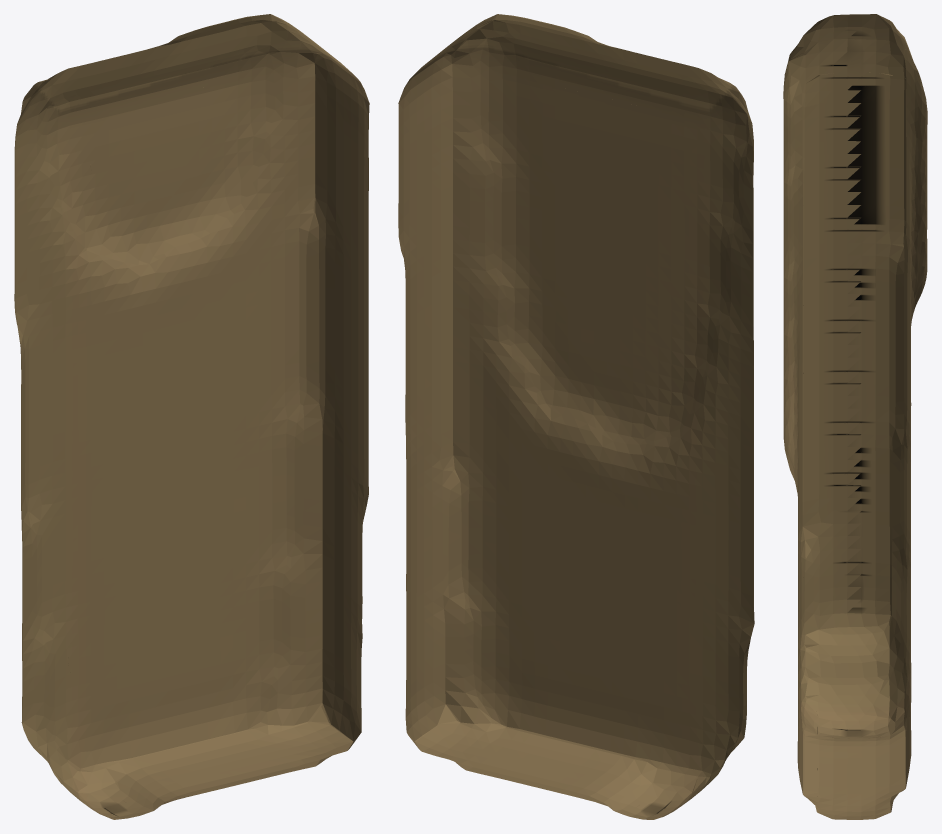
The picture shows the model from 3 angles, left to right: view 1: azimuth 30°, elevation 25°; view 2: azimuth 150°, elevation 25°; view 3: azimuth 270°, elevation 25°; orthographic projection. The views are drawn at different scales.
Parts seen in each view (by area): view 1: model; view 2: model; view 3: model.
Boxes of the visible parts, left/top/right/bottom form: model: left=14, top=14, right=369, bottom=819; model: left=398, top=14, right=754, bottom=819; model: left=783, top=14, right=927, bottom=819.
Size of the model in its own units: 0.4387 by 1 by 0.1853.
Materials: 1 (1 with a texture image).
